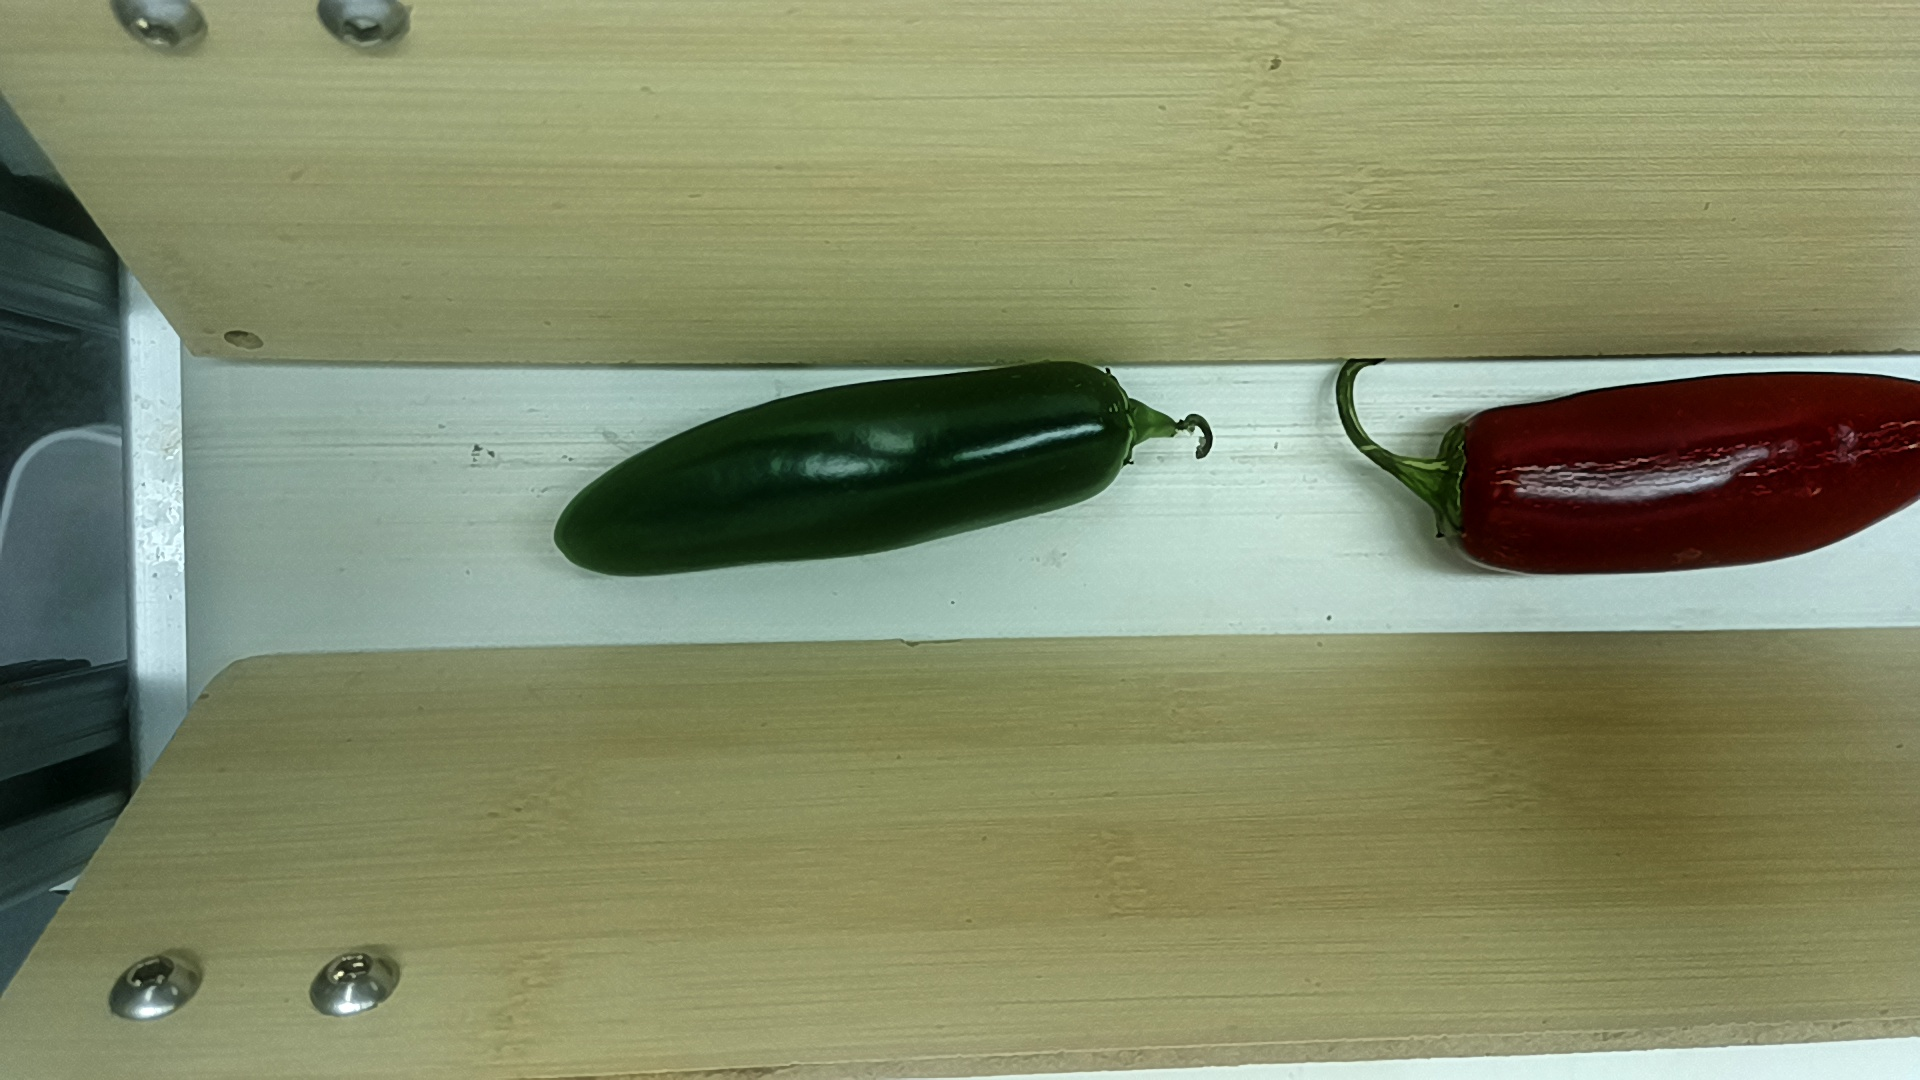Cut Point: (1423, 397, 1505, 572), (1076, 353, 1151, 501)
